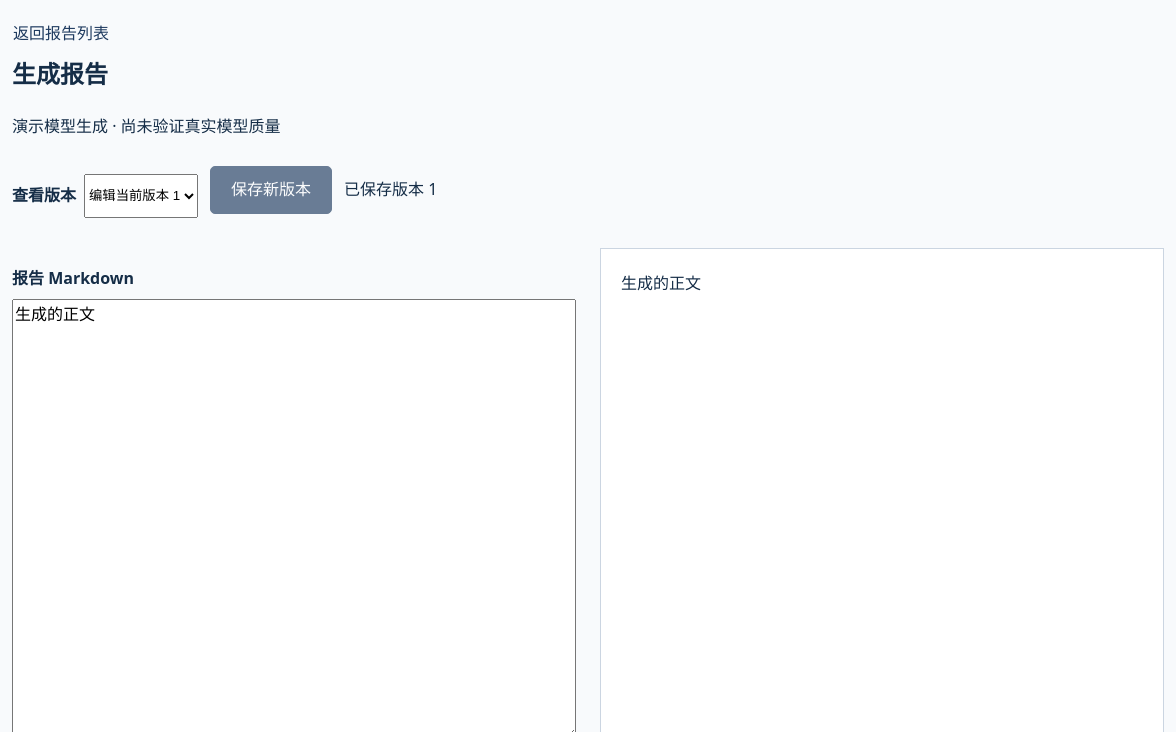
Test case: opens the exact generated draft and returns to its list without reopening it
Click the button "返回报告列表": [61, 34] box [12,12,110,56]
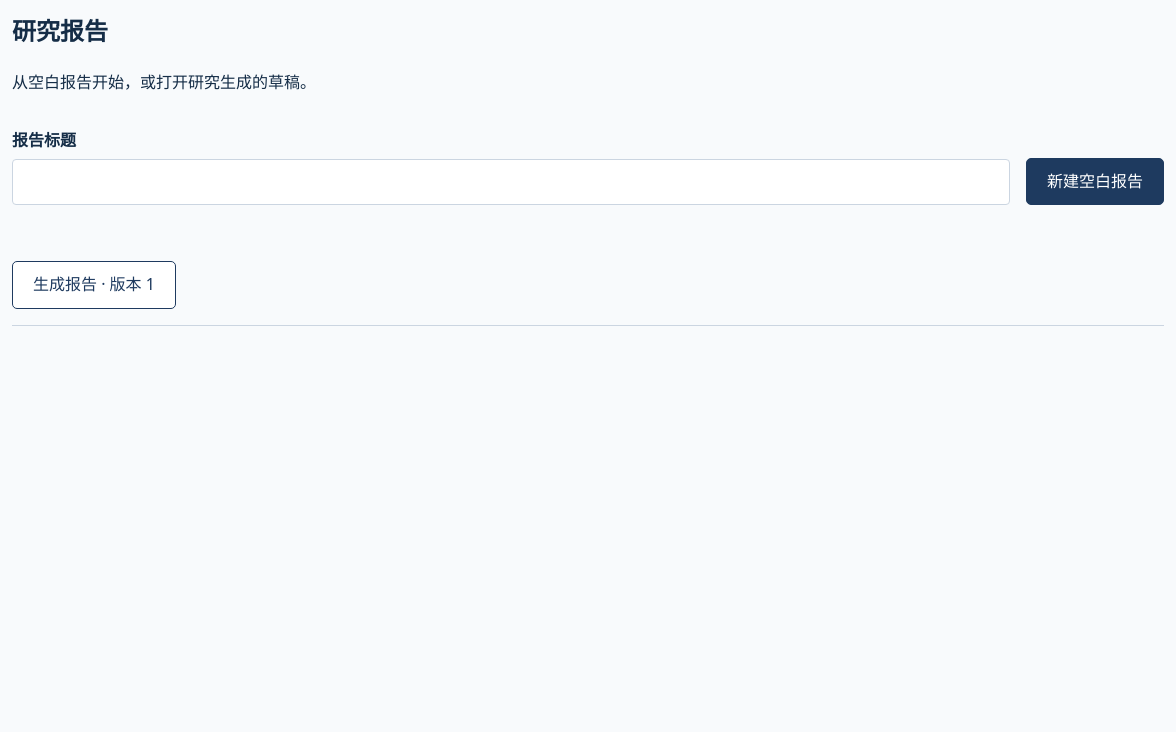
Result: the button "生成报告 · 版本 1" is shown at [12,262,176,309]
Result: the label labelled "报告 Markdown" is gone
